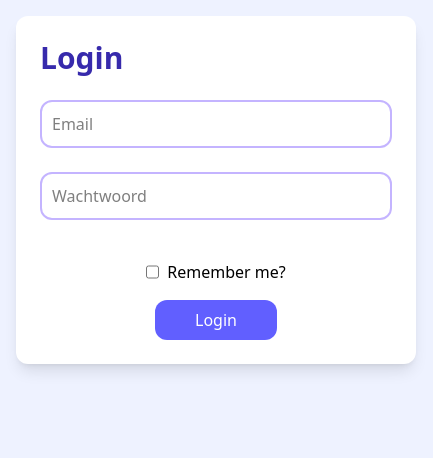
Test: LoginPage › shows an error message when login fails (wrong credentials) status 401
Type "wrong@plm.com" into the field with placeholder "Email".
click(216, 124); type("wrong@plm.com")  # box [40, 100, 392, 148]
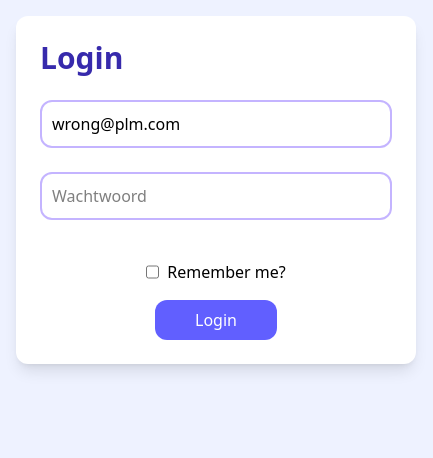
Type "wrong-password" into the password field with placeholder "Wachtwoord".
click(216, 196); type("wrong-password")  # box [40, 172, 392, 220]
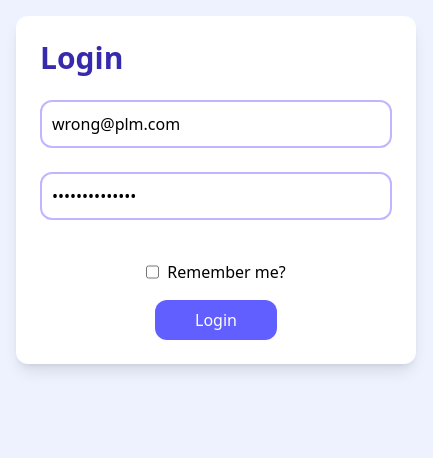
Click the button.
click(216, 320)  # box [155, 300, 277, 340]
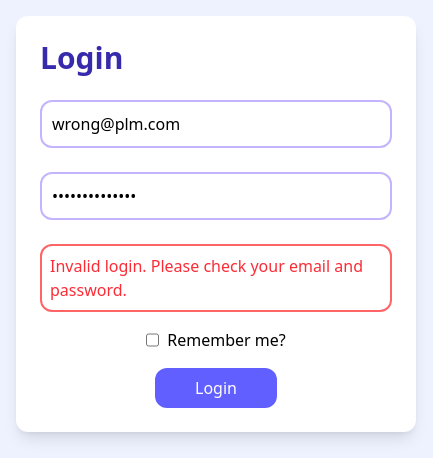
Now the text "Invalid login. Please check your email and password." is shown, box [50, 254, 382, 302]
